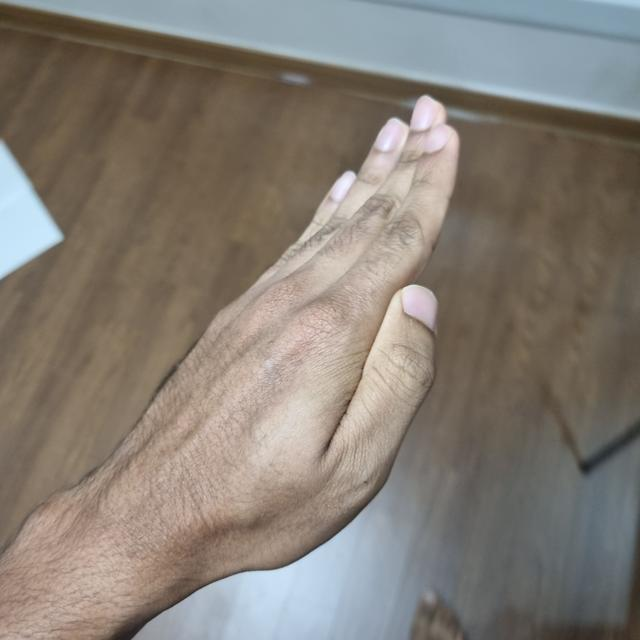Paper: (125, 96, 461, 575)
